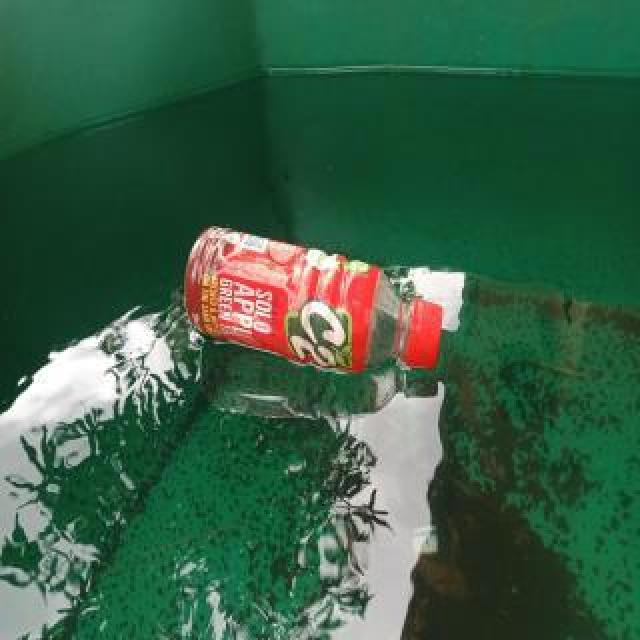bottle: (182, 222, 444, 376)
